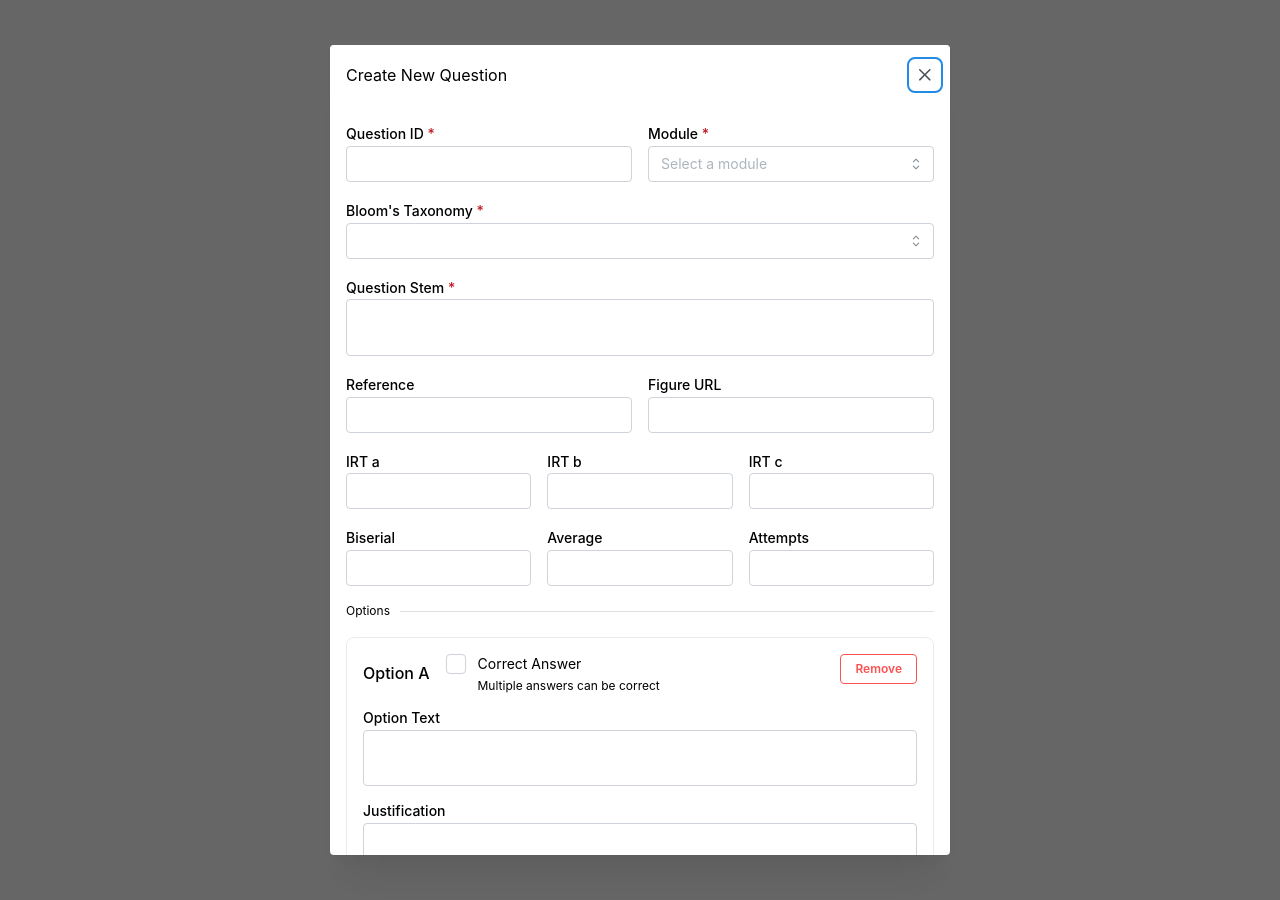
Test: EditQuestionModal › shows error when stem is empty and save clicked in create mode
The image size is (1280, 900).
# Fill required fields except stem
Type "Q001" into the field labelled "Question ID *" at (489, 164), box [346,146,632,182]
(page scrolled)
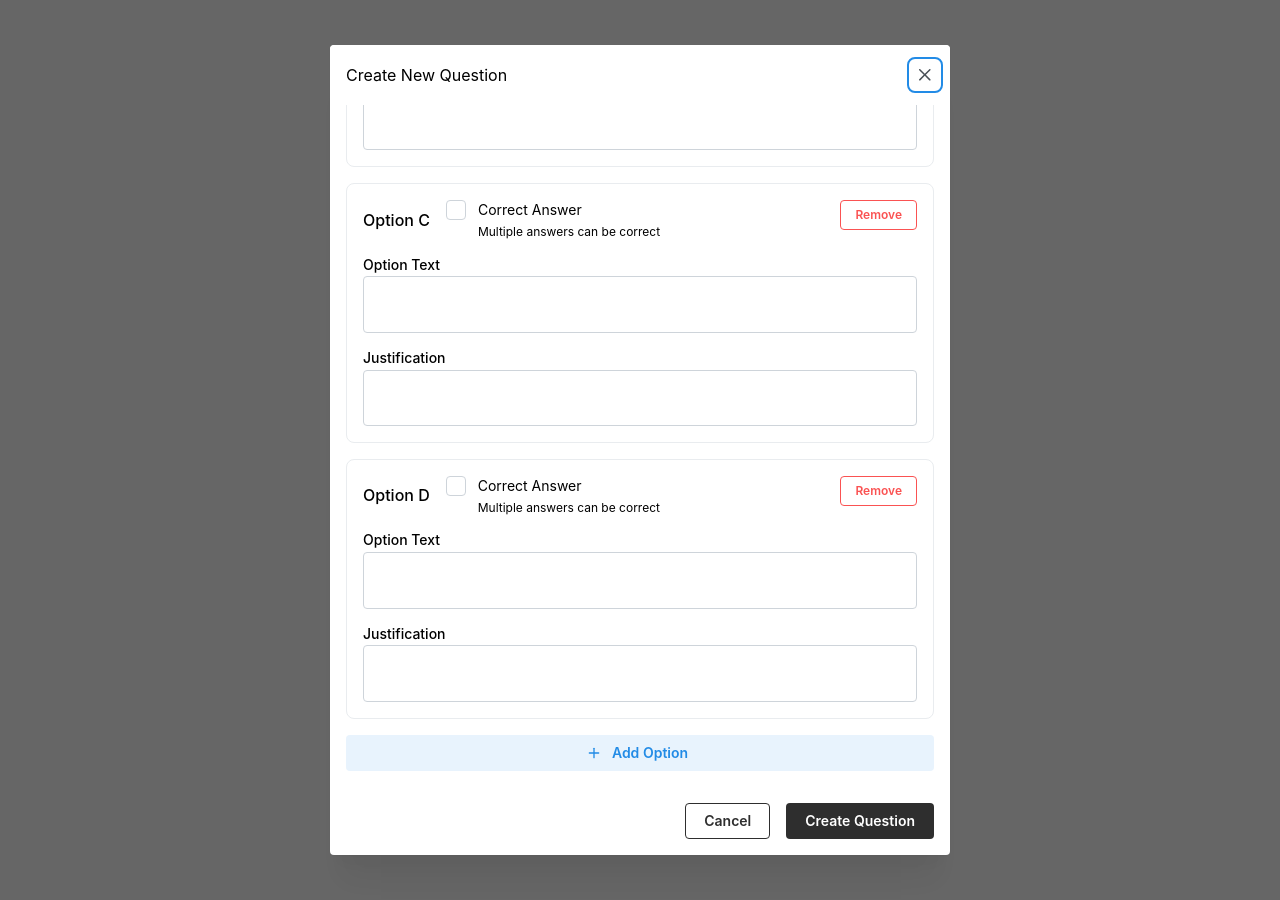
Click the button "Create Question" at (860, 821), box [786,803,934,839]
(page scrolled)
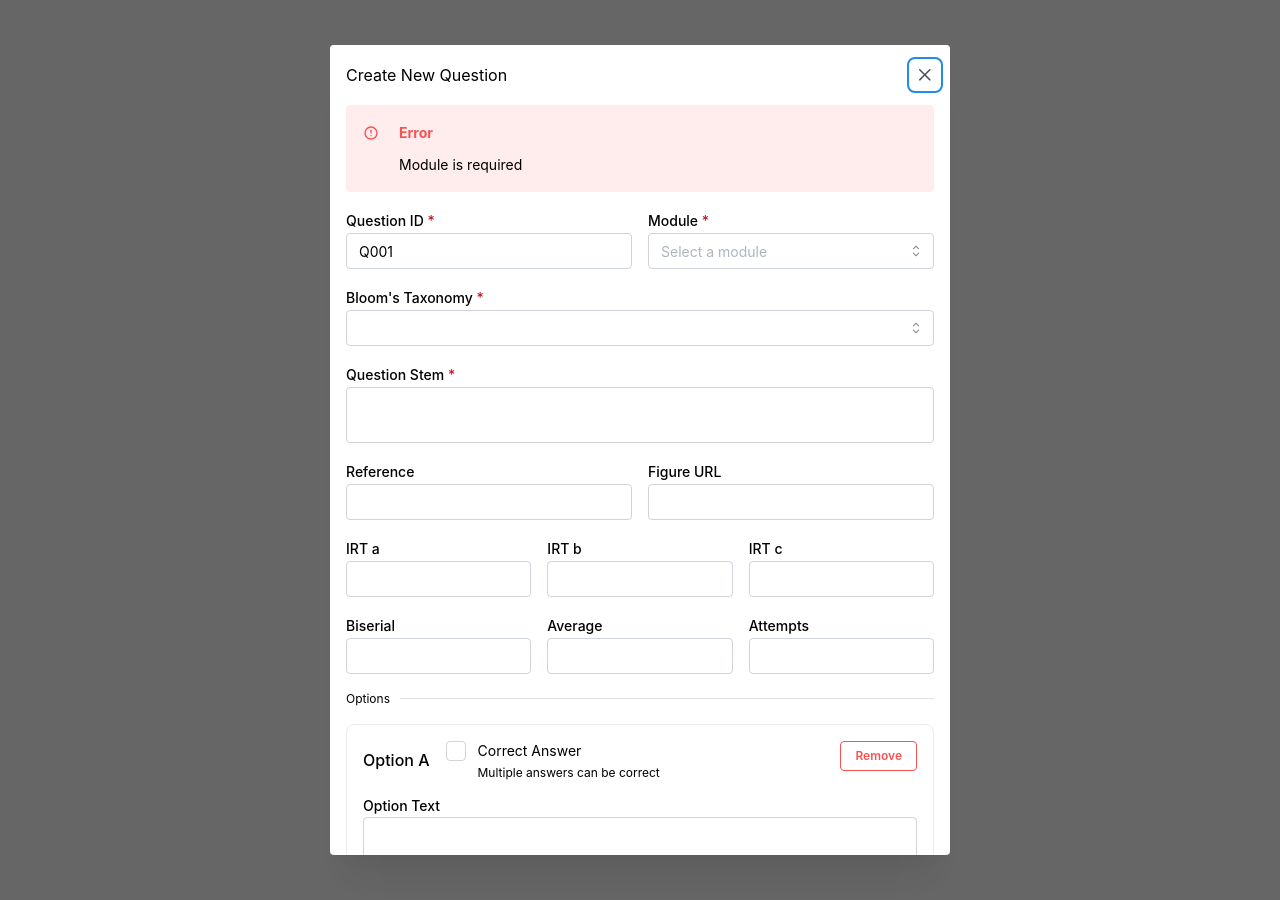
expect the message "Error Module is required" is shown: met, box [346,105,934,192]
